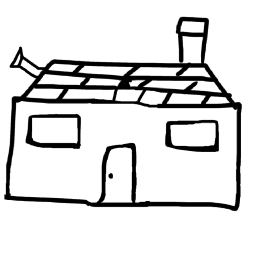chimney: (163, 8, 215, 67), (2, 42, 46, 79)
door: (96, 140, 147, 207)
open_window: (164, 110, 221, 162), (24, 114, 83, 154)
roof: (0, 56, 256, 113)
wall: (3, 96, 251, 213)
